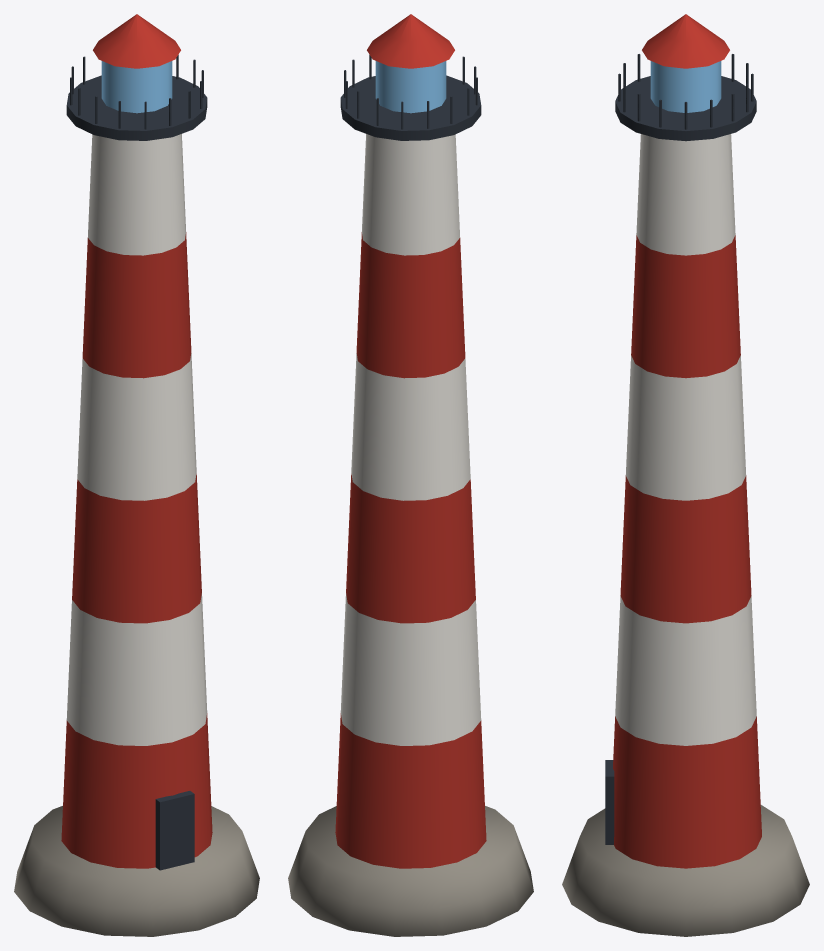
The model's file is lighthouse.glb.
The picture shows the model from 3 angles, left to right: view 1: azimuth 30°, elevation 25°; view 2: azimuth 150°, elevation 25°; view 3: azimuth 270°, elevation 25°; orthographic projection.
Visible parts, largest first — view 1: lighthouse_mesh; view 2: lighthouse_mesh; view 3: lighthouse_mesh.
Boxes of the visible parts, x1,y1,x2,y2 form: lighthouse_mesh: (14,14,259,936); lighthouse_mesh: (288,14,533,936); lighthouse_mesh: (562,14,809,936).
Bounding box in the file's own units: 5.6 × 21.7 × 5.6.
